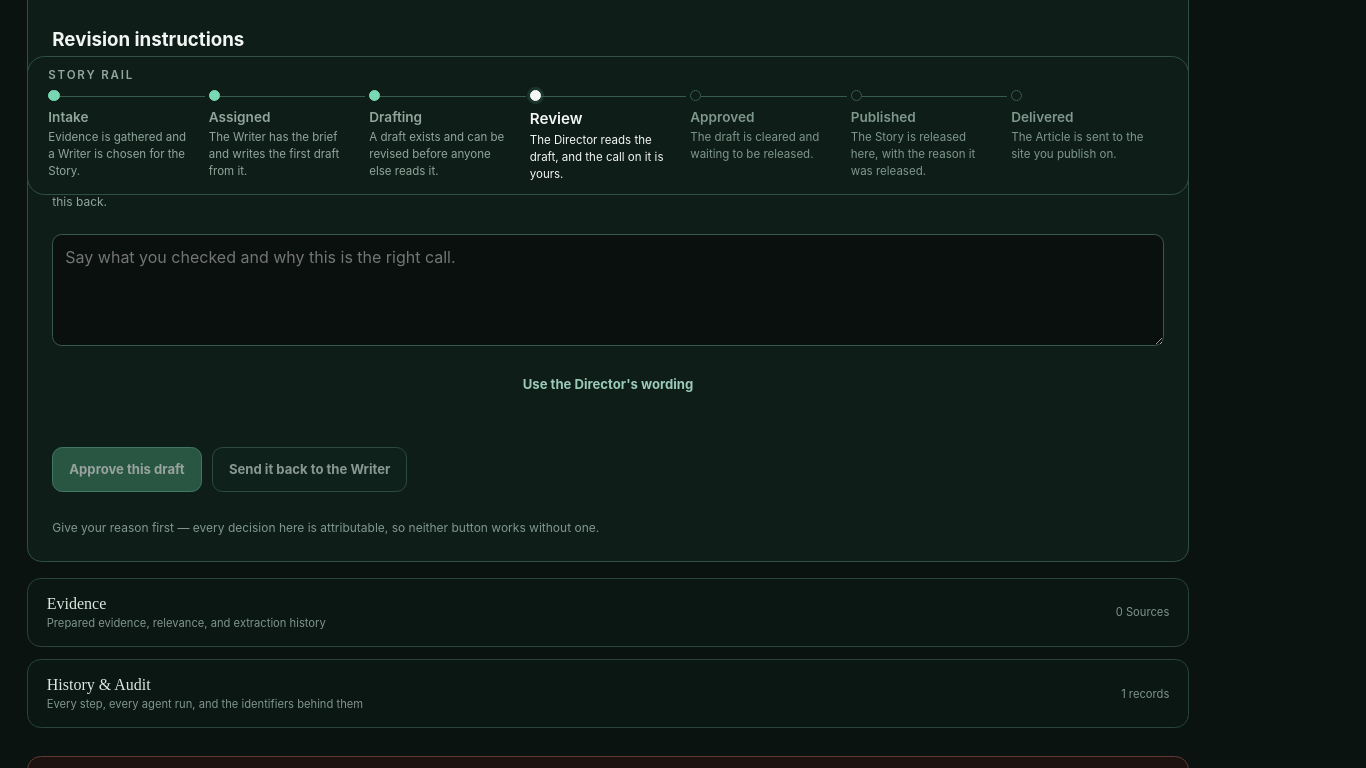
Director review workspace › shows text review checks and explicit editable operator decision controls
The width and height of the screenshot is (1366, 768).
(page scrolled)
Expected: the button "Approve this draft" is shown, 52,447 -> 202,492
Expected: the button "Send it back to the Writer" is shown, 212,447 -> 407,492
Click the button "Use the Director's wording": (608, 384) 52,362 -> 1164,407
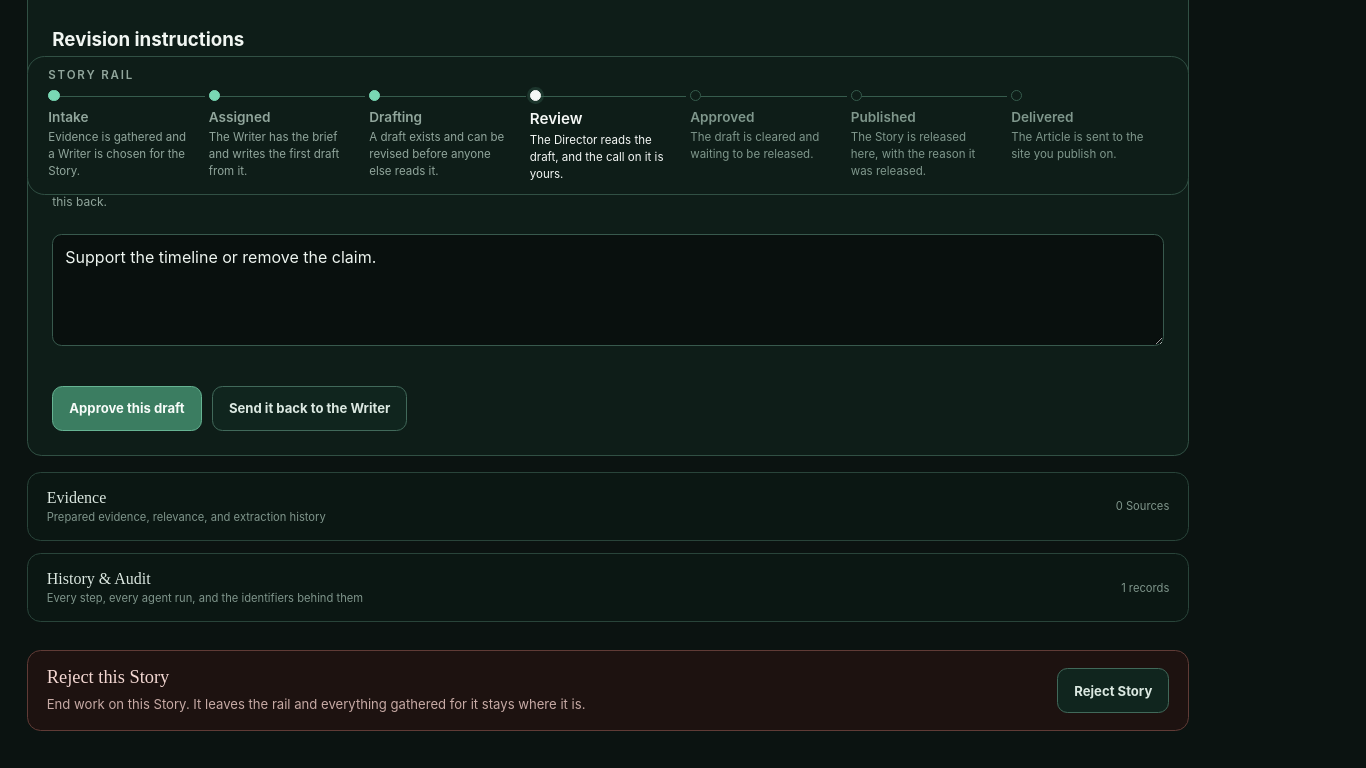
Now the text box labelled "Your reason" holds "Support the timeline or remove the claim.", box 52,234 -> 1164,346
